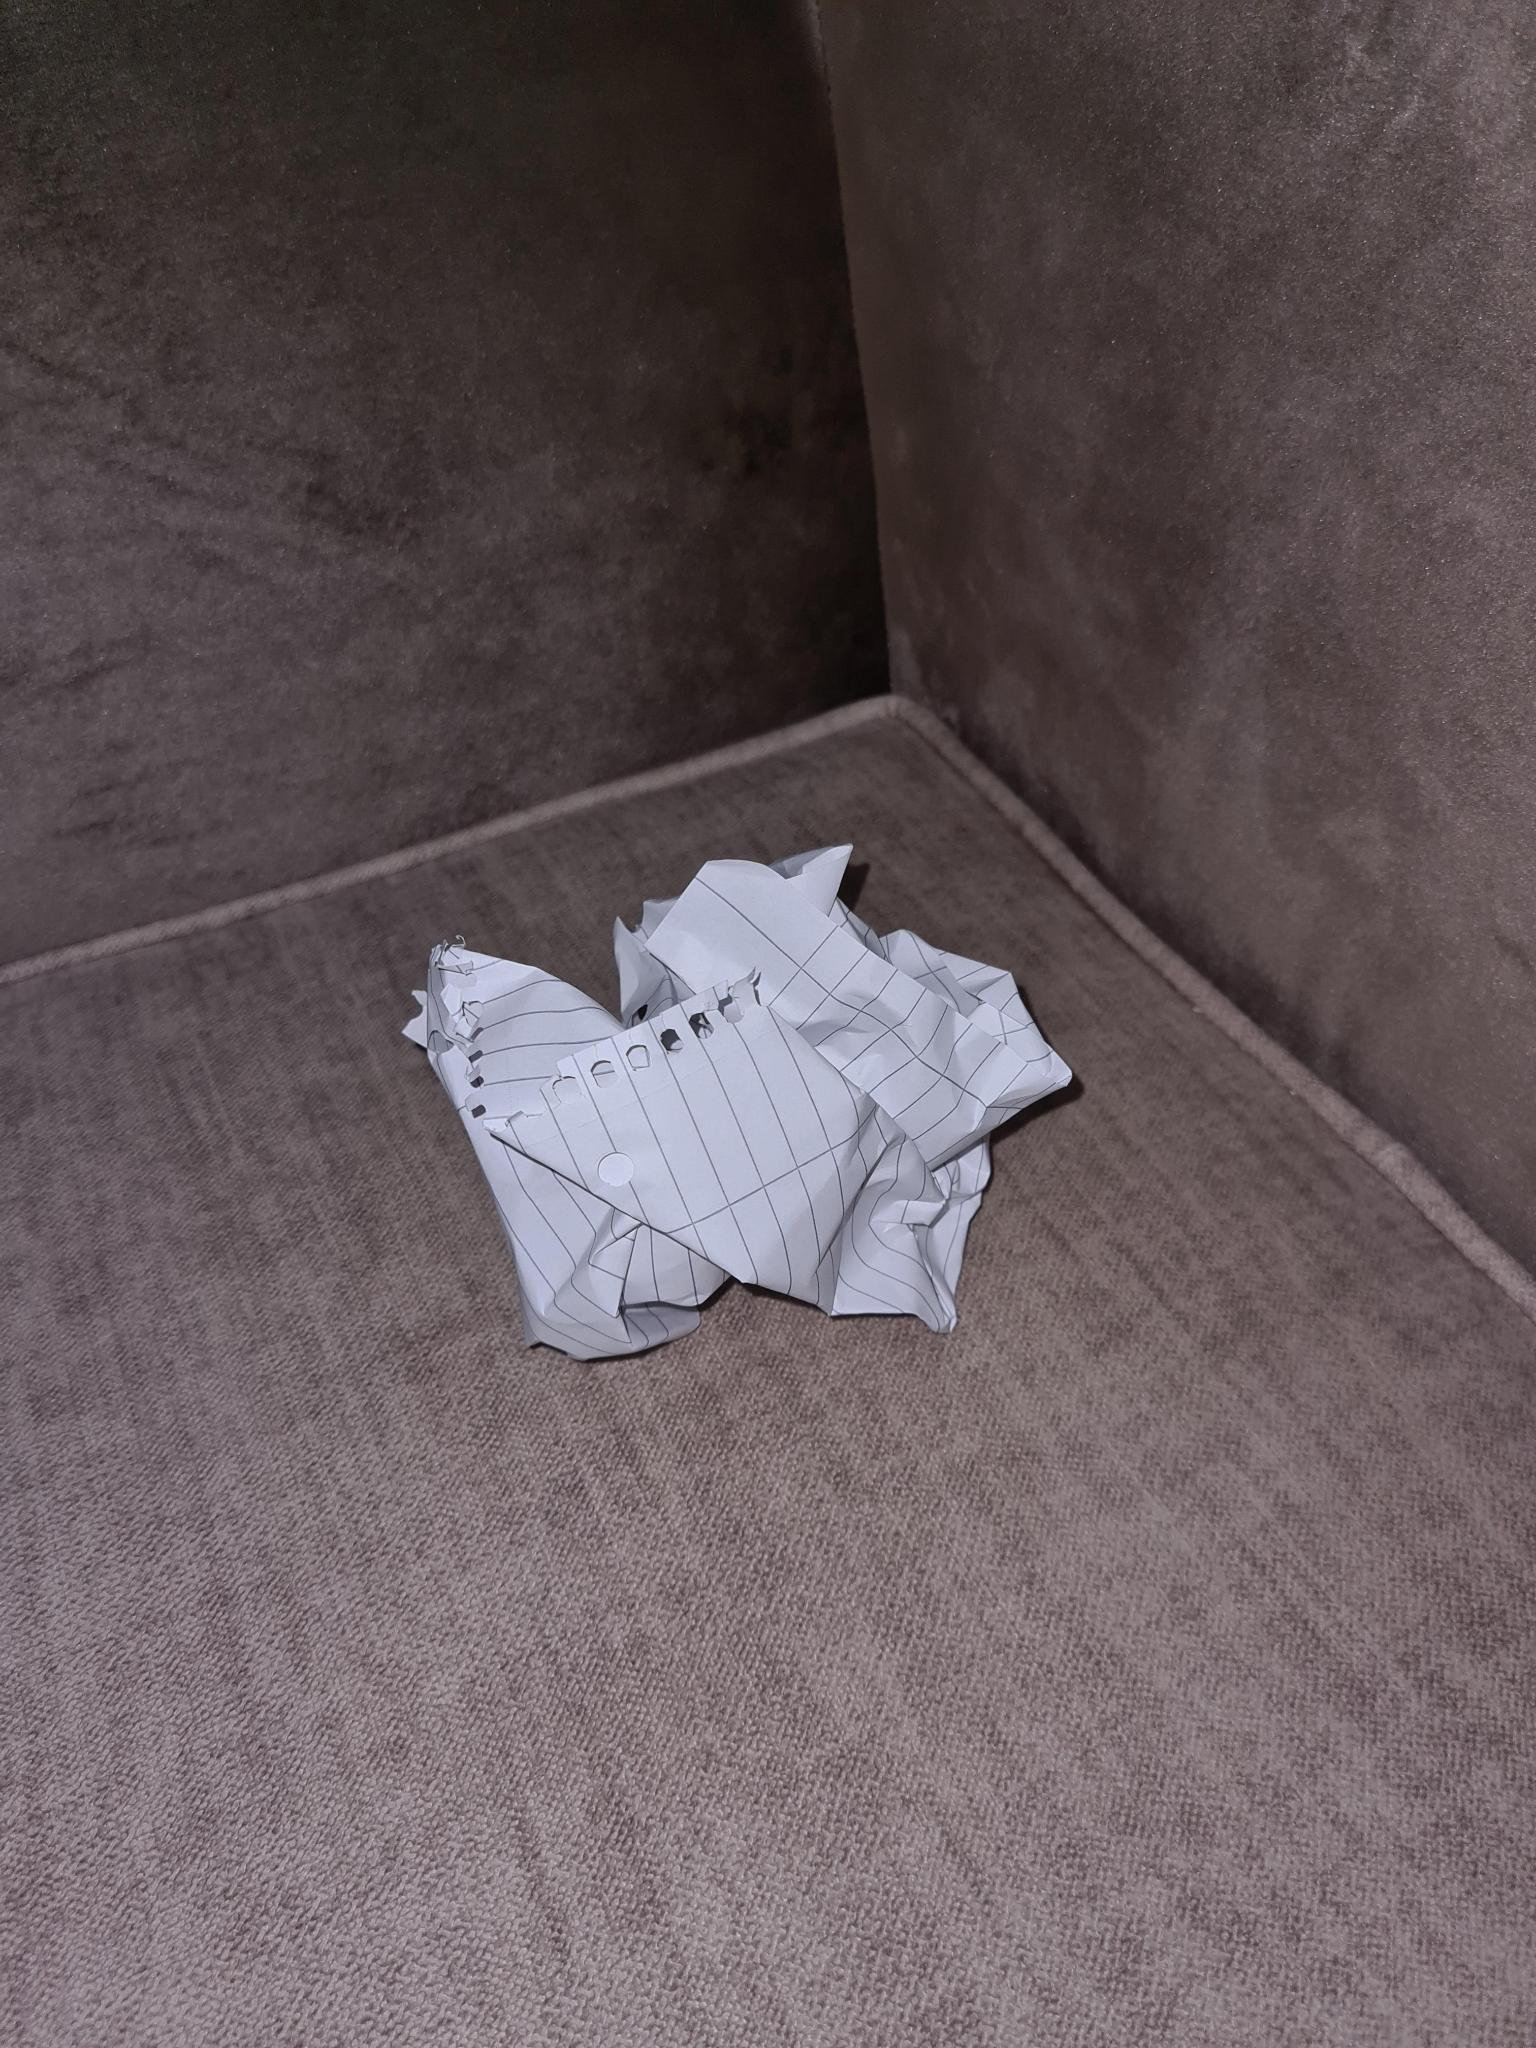paper: (406, 845, 1069, 1358)
